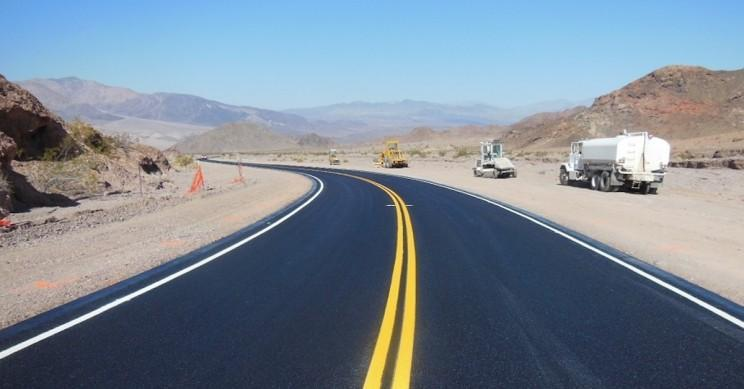car: (557, 134, 672, 194), (468, 140, 520, 184), (366, 139, 412, 173)
